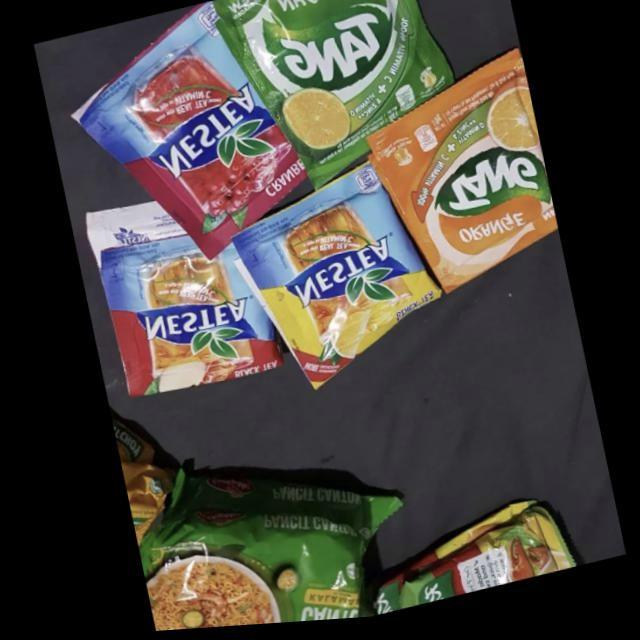food_wrapper: (135, 461, 400, 633)
plastic_sachet: (69, 3, 306, 262), (228, 165, 438, 393), (211, 0, 455, 193), (365, 54, 556, 298), (84, 201, 281, 397)
